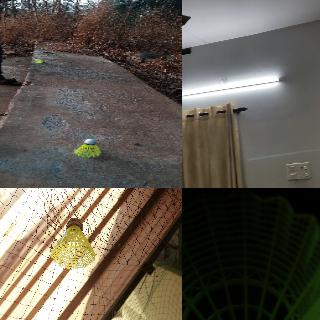shuttlecock: (182, 188, 319, 319), (50, 218, 96, 268), (75, 138, 102, 158), (33, 58, 46, 62)
